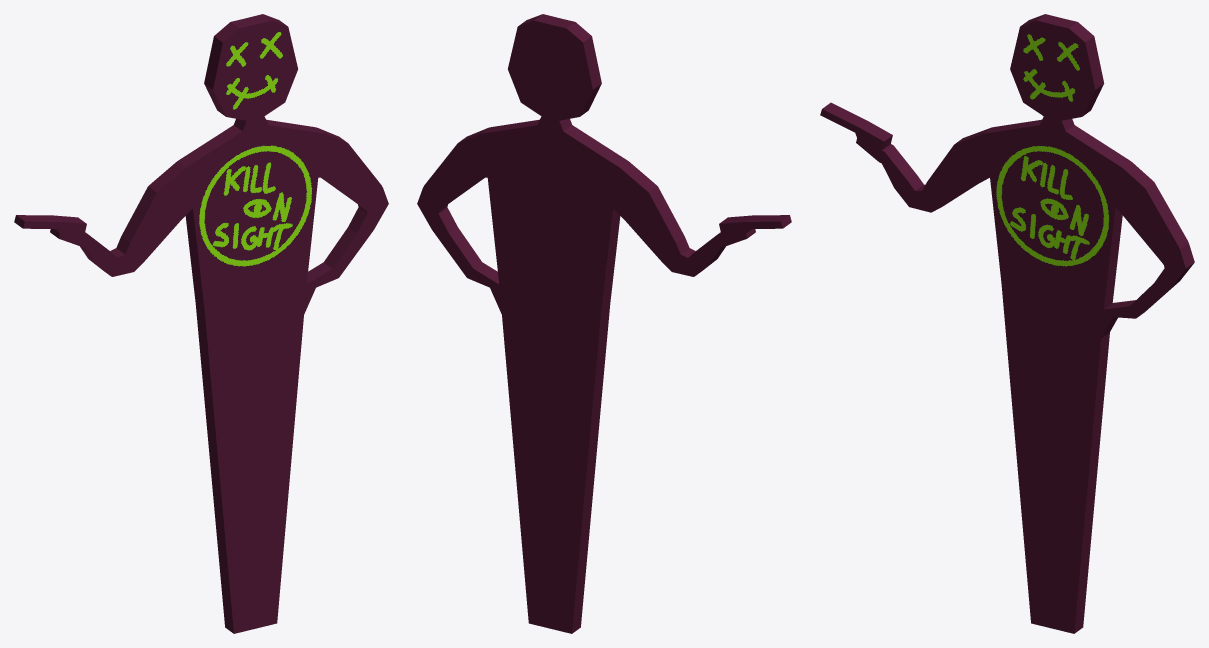
Rendered from Person.gltf.
3 views of the same model, side by side, from view 1: azimuth 30°, elevation 25°; view 2: azimuth 150°, elevation 25°; view 3: azimuth 330°, elevation 25° (orthographic).
Parts seen in each view (by area): view 1: Person; view 2: Person; view 3: Person.
Boxes of the visible parts, <box> form: Person: <box>14,14,388,633</box>; Person: <box>417,14,791,633</box>; Person: <box>820,14,1194,633</box>.
Bounding box in the file's own units: 1.29 × 2.03 × 0.0543.
Materials: 1 (1 with a texture image).
